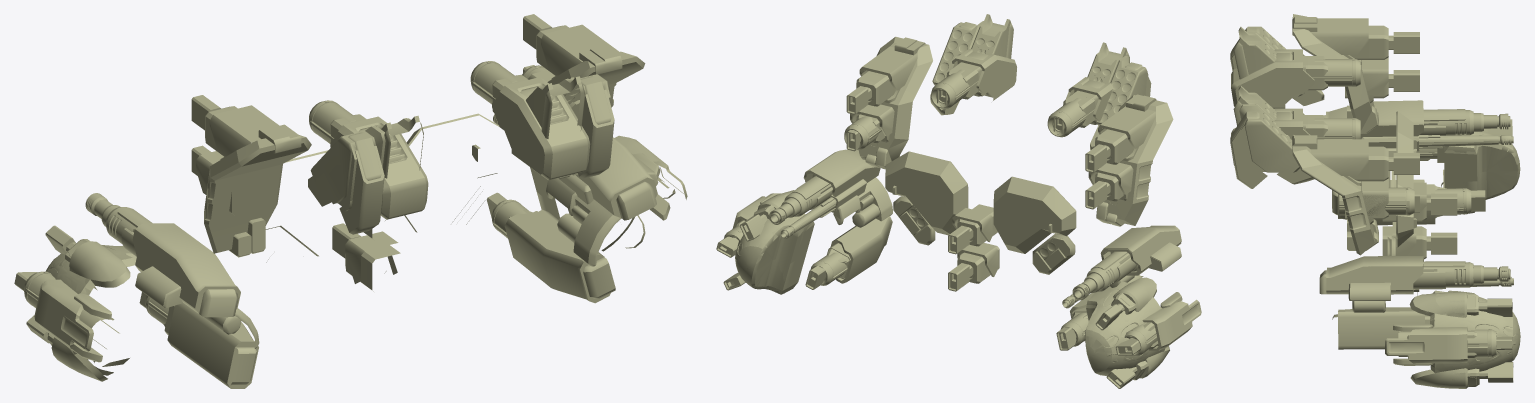
The model's file is CrusaderWeapons.glb.
The picture shows the model from 3 angles, left to right: view 1: azimuth 30°, elevation 25°; view 2: azimuth 150°, elevation 25°; view 3: azimuth 270°, elevation 25°; orthographic projection. The views are drawn at different scales.
Parts seen in each view (by area): view 1: Forearm_Left_BH1_AC10, Clavicle_Left_EH5_Flamer, Torso_Left_MH2_Missile20, Forearm_Right_BH1_AC5, Torso_Right_EH1_Flamer, Forearm_Left_EH1_Laser, Forearm_Right_EH1_Laser, Forearm_Left_EH2_Laser, Torso_Right_MH2_Missile20, Torso_Left_MH2_Missile2, Forearm_Right_EH1_Flamer, Forearm_Right_EH1_PPC (+28 smaller); view 2: Torso_Right_MH1_Blank, Torso_Left_MH1_Blank, Forearm_Left_BH1_AC10, Forearm_Right_BH1_AC5, Torso_Left_MH2_Missile20, Forearm_Right_EH3_Flamer, Clavicle_Left_MH2_Missile4, Forearm_Right_EH1_Laser, Forearm_Left_EH2_Laser, Torso_Right_EH1_Flamer, Clavicle_Right_EH5_Flamer, Clavicle_Left_EH6_Flamer (+51 smaller); view 3: Forearm_Right_BH1_AC10, Torso_Right_MH2_Missile20, Forearm_Right_EH2_Flamer, Forearm_Left_EH3_Flamer, Forearm_Left_BH1_AC10, Forearm_Right_EH1_Laser, Clavicle_Right_EH6_Flamer, Clavicle_Left_EH6_Flamer, Torso_Left_MH2_Missile4, Clavicle_Left_EH5_Flamer, Forearm_Right_BH1_AC5, Clavicle_Right_EH5_PPC (+49 smaller).
Boxes of the visible parts, left/top/right/bottom form: Forearm_Left_BH1_AC10: left=101, top=205, right=259, bottom=347; Clavicle_Left_EH5_Flamer: left=191, top=124, right=311, bottom=253; Torso_Left_MH2_Missile20: left=308, top=116, right=419, bottom=234; Forearm_Right_BH1_AC5: left=571, top=137, right=658, bottom=264; Torso_Right_EH1_Flamer: left=492, top=77, right=586, bottom=174; Forearm_Left_EH1_Laser: left=165, top=303, right=254, bottom=388; Forearm_Right_EH1_Laser: left=505, top=209, right=608, bottom=272; Forearm_Left_EH2_Laser: left=34, top=265, right=109, bottom=362; Torso_Right_MH2_Missile20: left=564, top=74, right=614, bottom=178; Torso_Left_MH2_Missile2: left=356, top=123, right=426, bottom=219; Forearm_Right_EH1_Flamer: left=486, top=192, right=615, bottom=300; Forearm_Right_EH1_PPC: left=492, top=199, right=615, bottom=303; Torso_Right_MH1_Blank: left=885, top=151, right=967, bottom=235; Torso_Left_MH1_Blank: left=993, top=177, right=1076, bottom=253; Forearm_Left_BH1_AC10: left=1084, top=225, right=1181, bottom=292; Forearm_Right_BH1_AC5: left=769, top=149, right=892, bottom=224; Torso_Left_MH2_Missile20: left=1089, top=42, right=1151, bottom=149; Forearm_Right_EH3_Flamer: left=739, top=193, right=814, bottom=290; Clavicle_Left_MH2_Missile4: left=1106, top=95, right=1173, bottom=226; Forearm_Right_EH1_Laser: left=827, top=203, right=892, bottom=283; Forearm_Left_EH2_Laser: left=1107, top=293, right=1201, bottom=360; Torso_Right_EH1_Flamer: left=937, top=48, right=1016, bottom=105; Clavicle_Right_EH5_Flamer: left=846, top=40, right=925, bottom=166; Clavicle_Left_EH6_Flamer: left=1085, top=106, right=1155, bottom=172; Forearm_Right_BH1_AC10: left=1321, top=257, right=1483, bottom=300; Torso_Right_MH2_Missile20: left=1230, top=105, right=1314, bottom=188; Forearm_Right_EH2_Flamer: left=1385, top=320, right=1512, bottom=367; Forearm_Left_EH3_Flamer: left=1444, top=119, right=1519, bottom=199; Forearm_Left_BH1_AC10: left=1324, top=100, right=1483, bottom=135; Forearm_Right_EH1_Laser: left=1332, top=301, right=1424, bottom=345; Clavicle_Right_EH6_Flamer: left=1311, top=139, right=1419, bottom=185; Clavicle_Left_EH6_Flamer: left=1311, top=18, right=1419, bottom=61; Torso_Left_MH2_Missile4: left=1231, top=50, right=1314, bottom=108; Clavicle_Left_EH5_Flamer: left=1292, top=17, right=1419, bottom=132; Forearm_Right_BH1_AC5: left=1319, top=256, right=1510, bottom=299; Clavicle_Right_EH5_PPC: left=1301, top=168, right=1414, bottom=254.
Size of the model in its own units: 1.75 by 0.8613 by 0.967.
